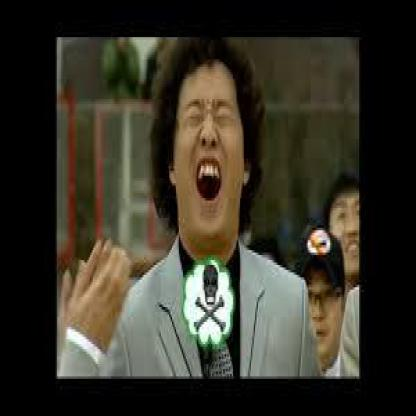skull: (194, 264, 228, 335)
